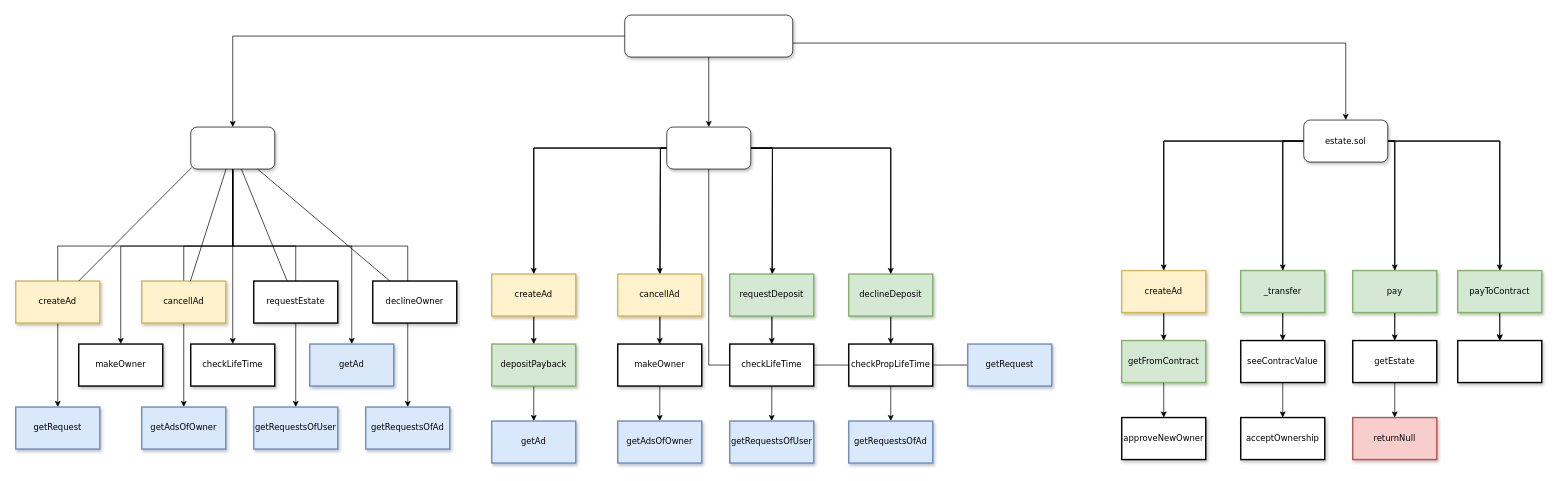
Some shapes in this 1558 by 481 pixel diagram are drawn without their labels. Each missing label, with the centre of its shape:
"buy.sol" belongs at (233,149).
"deposit.sol" belongs at (709,149).
"estate_managment_example" belongs at (709,37).
"getEstatesOfOwner" belongs at (1500,362).
